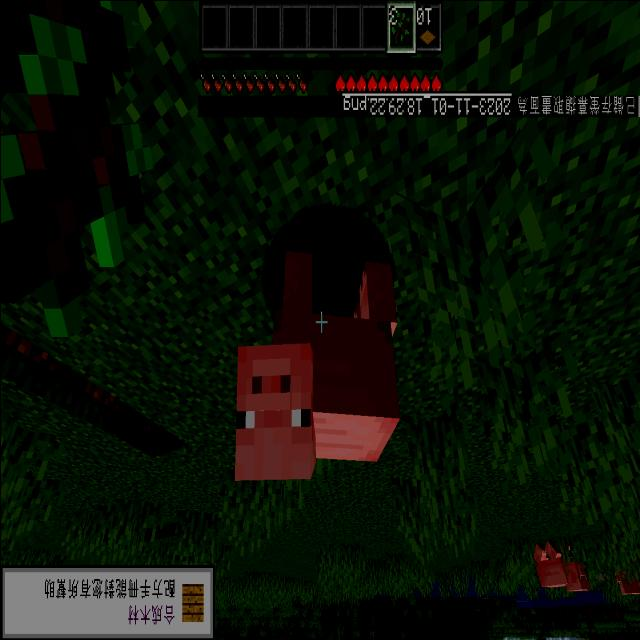pig: (210, 222, 416, 520), (526, 530, 592, 602), (606, 552, 640, 603)
